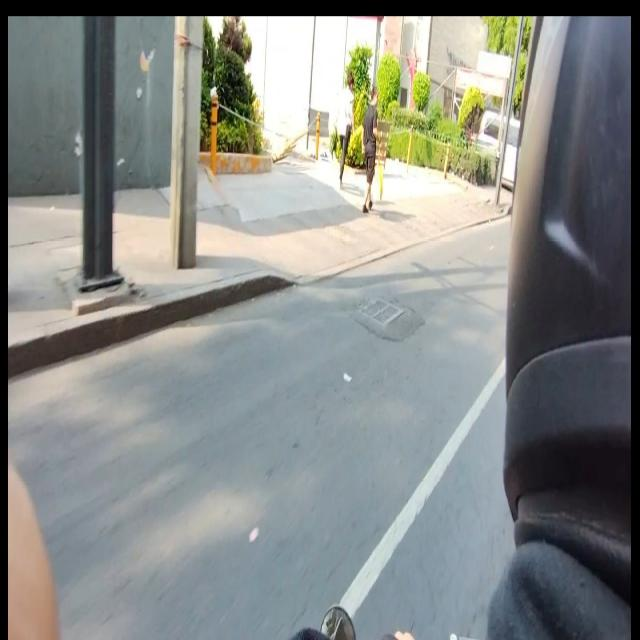adult: (361, 86, 380, 214), (337, 70, 355, 186)
